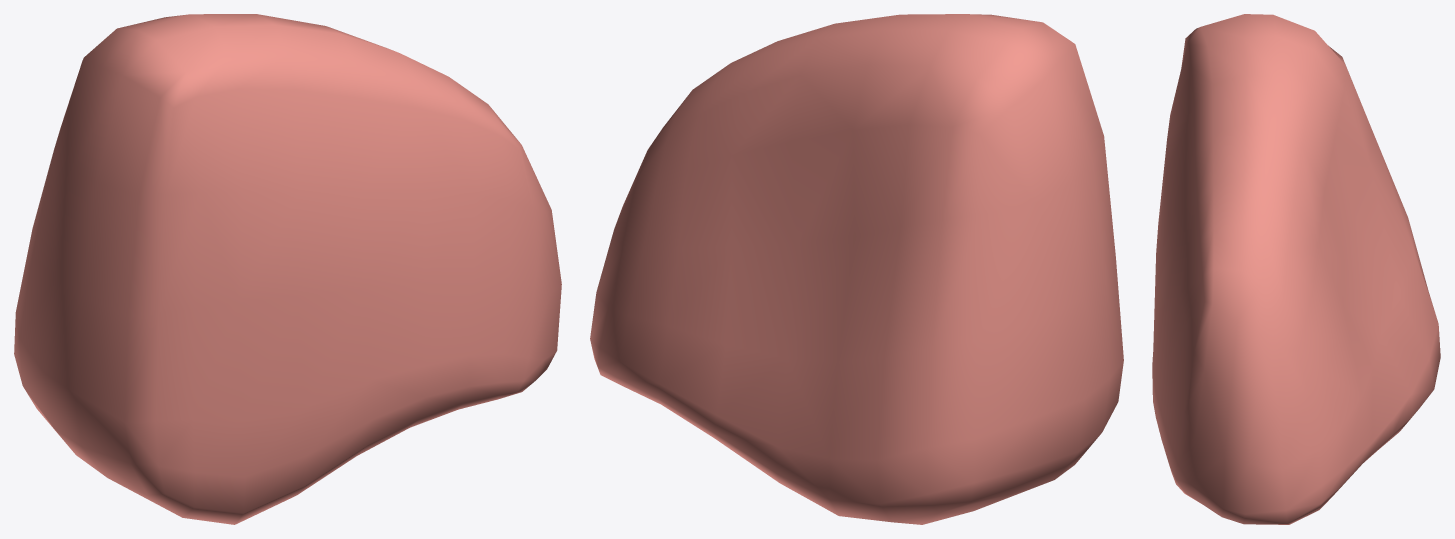
File: mixamo_humanoid_surface_leftToe.fbx
3 renders of one model, left to right at view 1: azimuth 30°, elevation 25°; view 2: azimuth 150°, elevation 25°; view 3: azimuth 270°, elevation 25°, orthographic. The views are drawn at different scales.
Parts seen in each view (by area): view 1: surface_LeftToeBase; view 2: surface_LeftToeBase; view 3: surface_LeftToeBase.
Boxes of the visible parts, <box> form: surface_LeftToeBase: <box>14,14,561,524</box>; surface_LeftToeBase: <box>590,14,1123,524</box>; surface_LeftToeBase: <box>1152,14,1440,524</box>.
Size of the model in its own units: 9.94 by 9.05 by 5.96.
